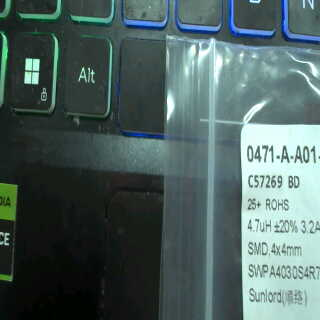4.7uH: (246, 214, 275, 234)
